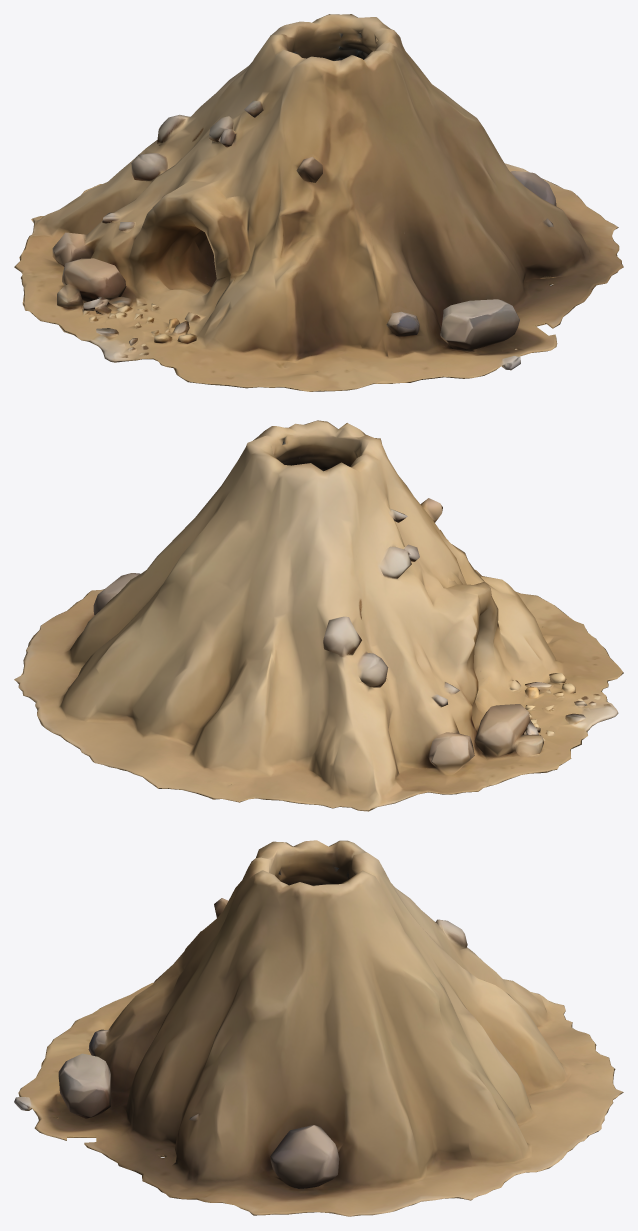
File: AntHill.glb
3 renders of one model, top to bottom at view 1: azimuth 30°, elevation 25°; view 2: azimuth 150°, elevation 25°; view 3: azimuth 270°, elevation 25°, orthographic.
Parts seen in each view (by area): view 1: anthill; view 2: anthill; view 3: anthill.
Boxes of the visible parts, <box> form: anthill: <box>14,14,623,391</box>; anthill: <box>14,420,623,811</box>; anthill: <box>14,840,623,1216</box>.
Bounding box in the file's own units: 0.98 × 0.4161 × 0.9759.
Materials: 1 (1 with a texture image).
